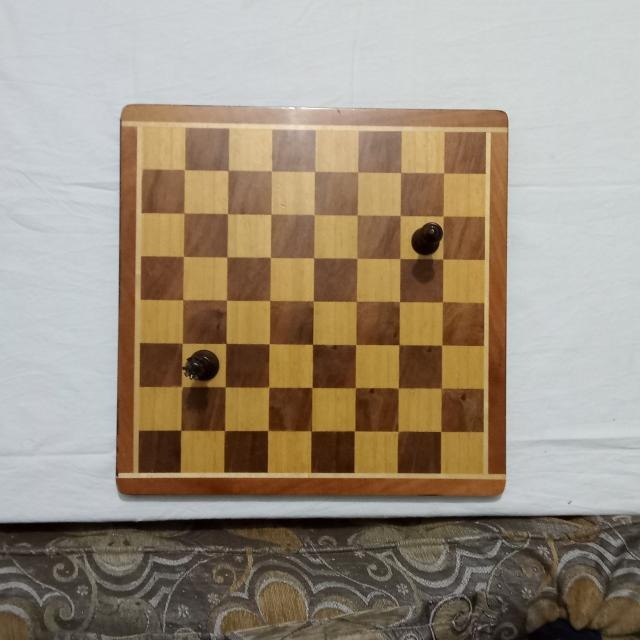black-king: (408, 220, 443, 256)
black-queen: (182, 349, 221, 382)
